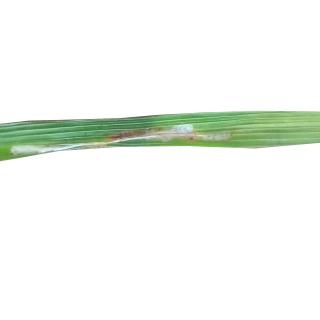Hawar-Daun: (105, 133, 231, 140), (10, 142, 54, 153)
